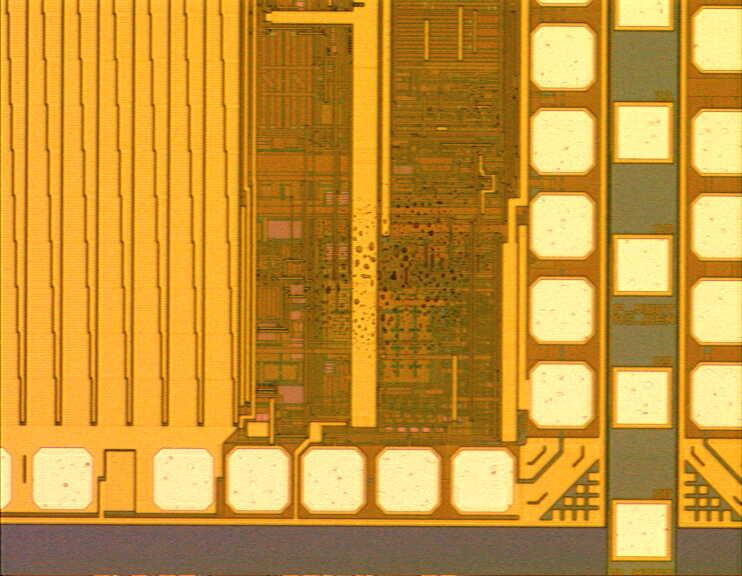PO CONTAMINATION: (271, 180, 484, 365)
